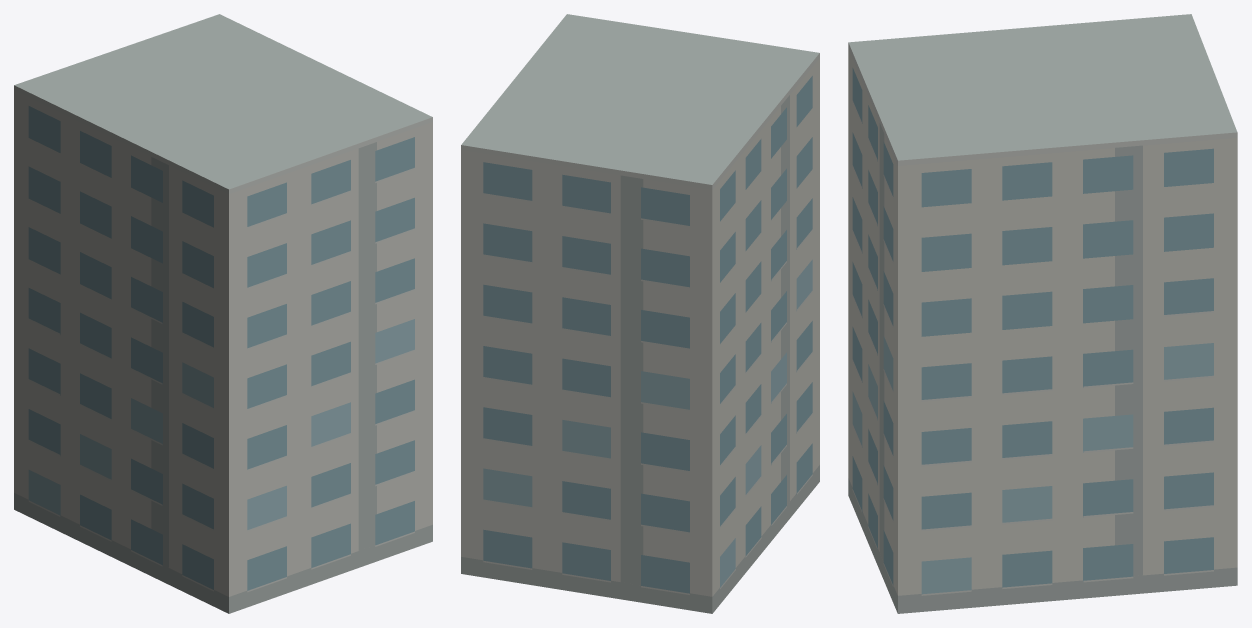
File: survey-upis-32832582.glb
3 views of the same model, side by side, from view 1: azimuth 30°, elevation 25°; view 2: azimuth 150°, elevation 25°; view 3: azimuth 270°, elevation 25° (orthographic). The views are drawn at different scales.
Visible parts, largest first — view 1: survey-upis-32832582.tmp; view 2: survey-upis-32832582.tmp; view 3: survey-upis-32832582.tmp.
Boxes of the visible parts, x1=… form: survey-upis-32832582.tmp: x1=14, y1=14, x2=432, y2=613; survey-upis-32832582.tmp: x1=461, y1=14, x2=819, y2=613; survey-upis-32832582.tmp: x1=848, y1=14, x2=1237, y2=613.
Bounding box in the file's own units: 14.58 × 21 × 16.35.
